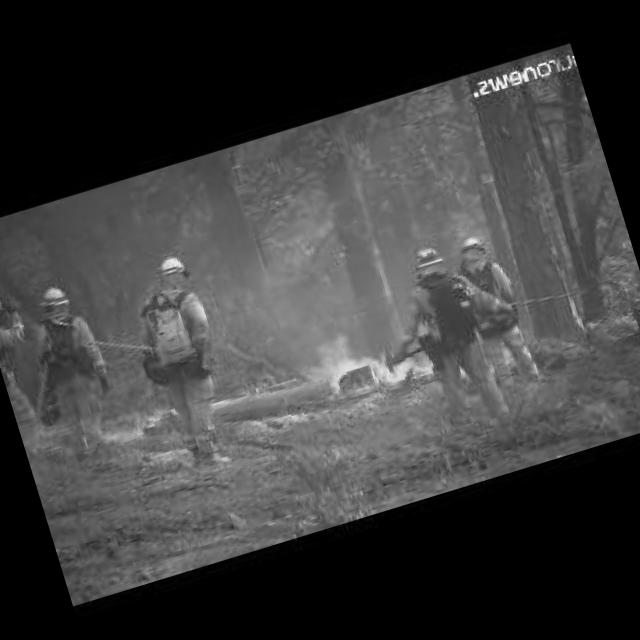fire: (289, 311, 430, 415), (501, 345, 512, 364)
